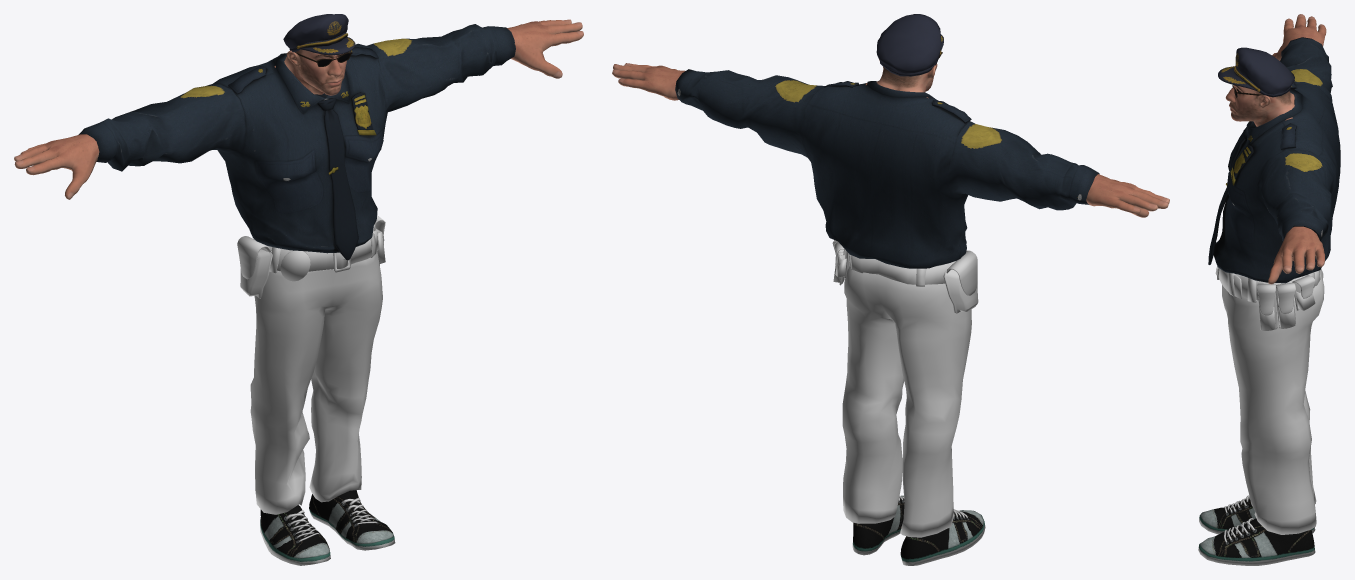
The model's file is Policial.obj.
3 renders of one model, left to right at view 1: azimuth 30°, elevation 25°; view 2: azimuth 150°, elevation 25°; view 3: azimuth 270°, elevation 25°, orthographic. The views are drawn at different scales.
Visible parts, largest first — view 1: Tops, Bottoms, Body, Shoes, Hats; view 2: Tops, Bottoms, Body, Shoes, Hats; view 3: Bottoms, Tops, Shoes, Body, Hats.
Boxes of the visible parts, box(x1,y1,x2,y2) form: Tops: box(78, 24, 515, 260); Bottoms: box(237, 215, 385, 514); Body: box(14, 19, 583, 199); Shoes: box(260, 490, 395, 565); Hats: box(283, 14, 355, 55); Tops: box(675, 69, 1099, 268); Bottoms: box(832, 240, 978, 537); Body: box(612, 59, 1169, 217); Shoes: box(852, 495, 985, 565); Hats: box(876, 14, 943, 76); Bottoms: box(1215, 266, 1324, 534); Tops: box(1208, 37, 1340, 283); Shoes: box(1198, 495, 1315, 565); Body: box(1225, 14, 1326, 284); Hats: box(1218, 47, 1294, 97).
Bounding box in the file's own units: 239 × 214 × 55.85.
